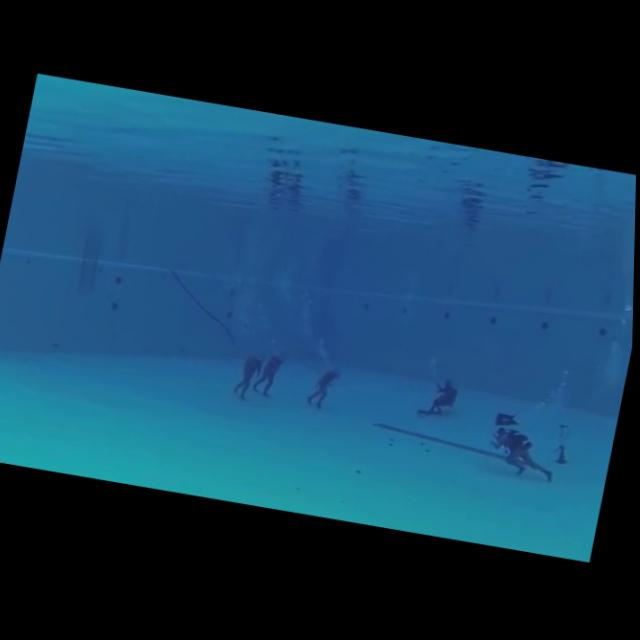human: (478, 404, 574, 491), (414, 369, 467, 427), (224, 344, 271, 408), (303, 357, 351, 418), (250, 346, 292, 404)
